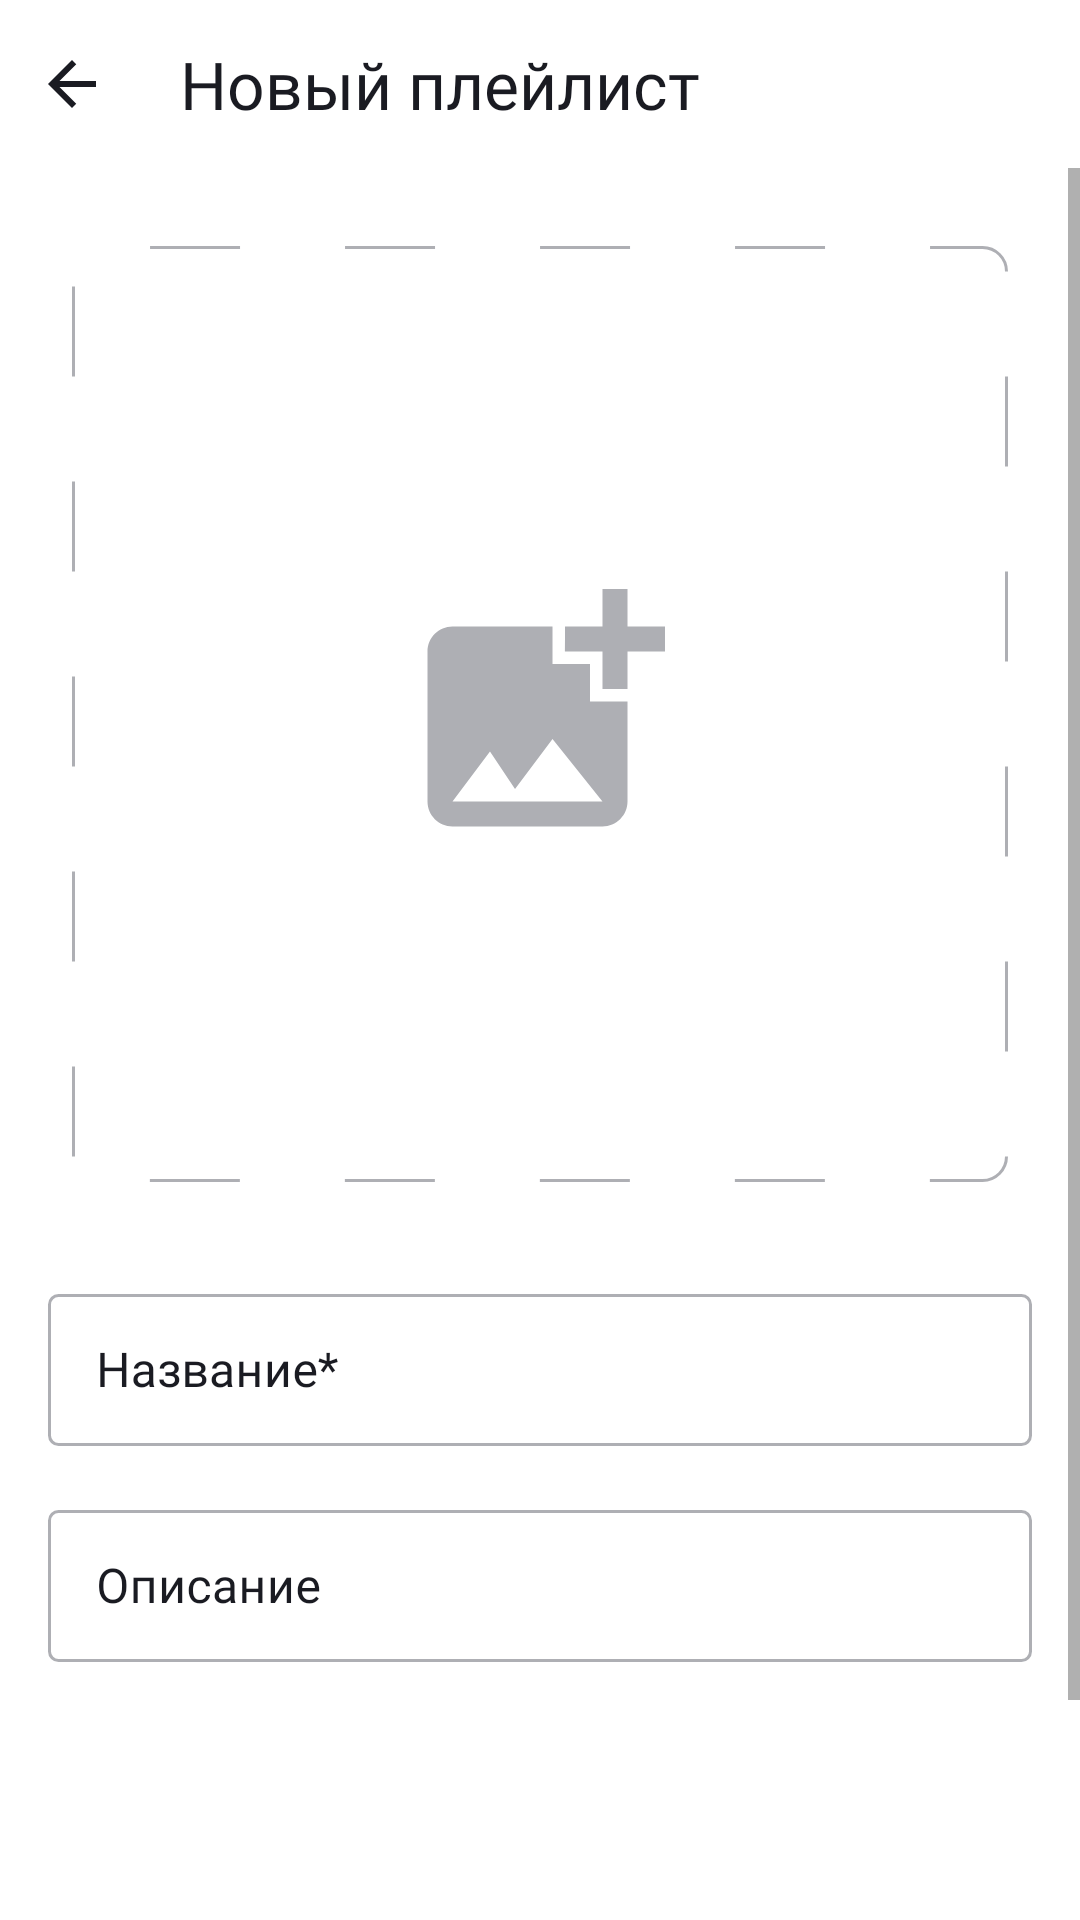

Where to tap for icons on this 1080 × 1920 app screen, as [x,y]:
add photo: [546,708]
arrow back: [72,84]
